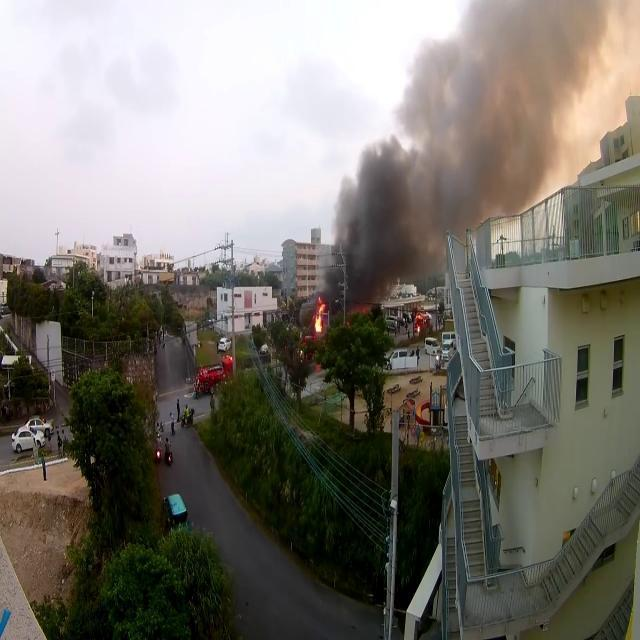Fire: (314, 295, 326, 340)
Smoke: (321, 0, 610, 314)
